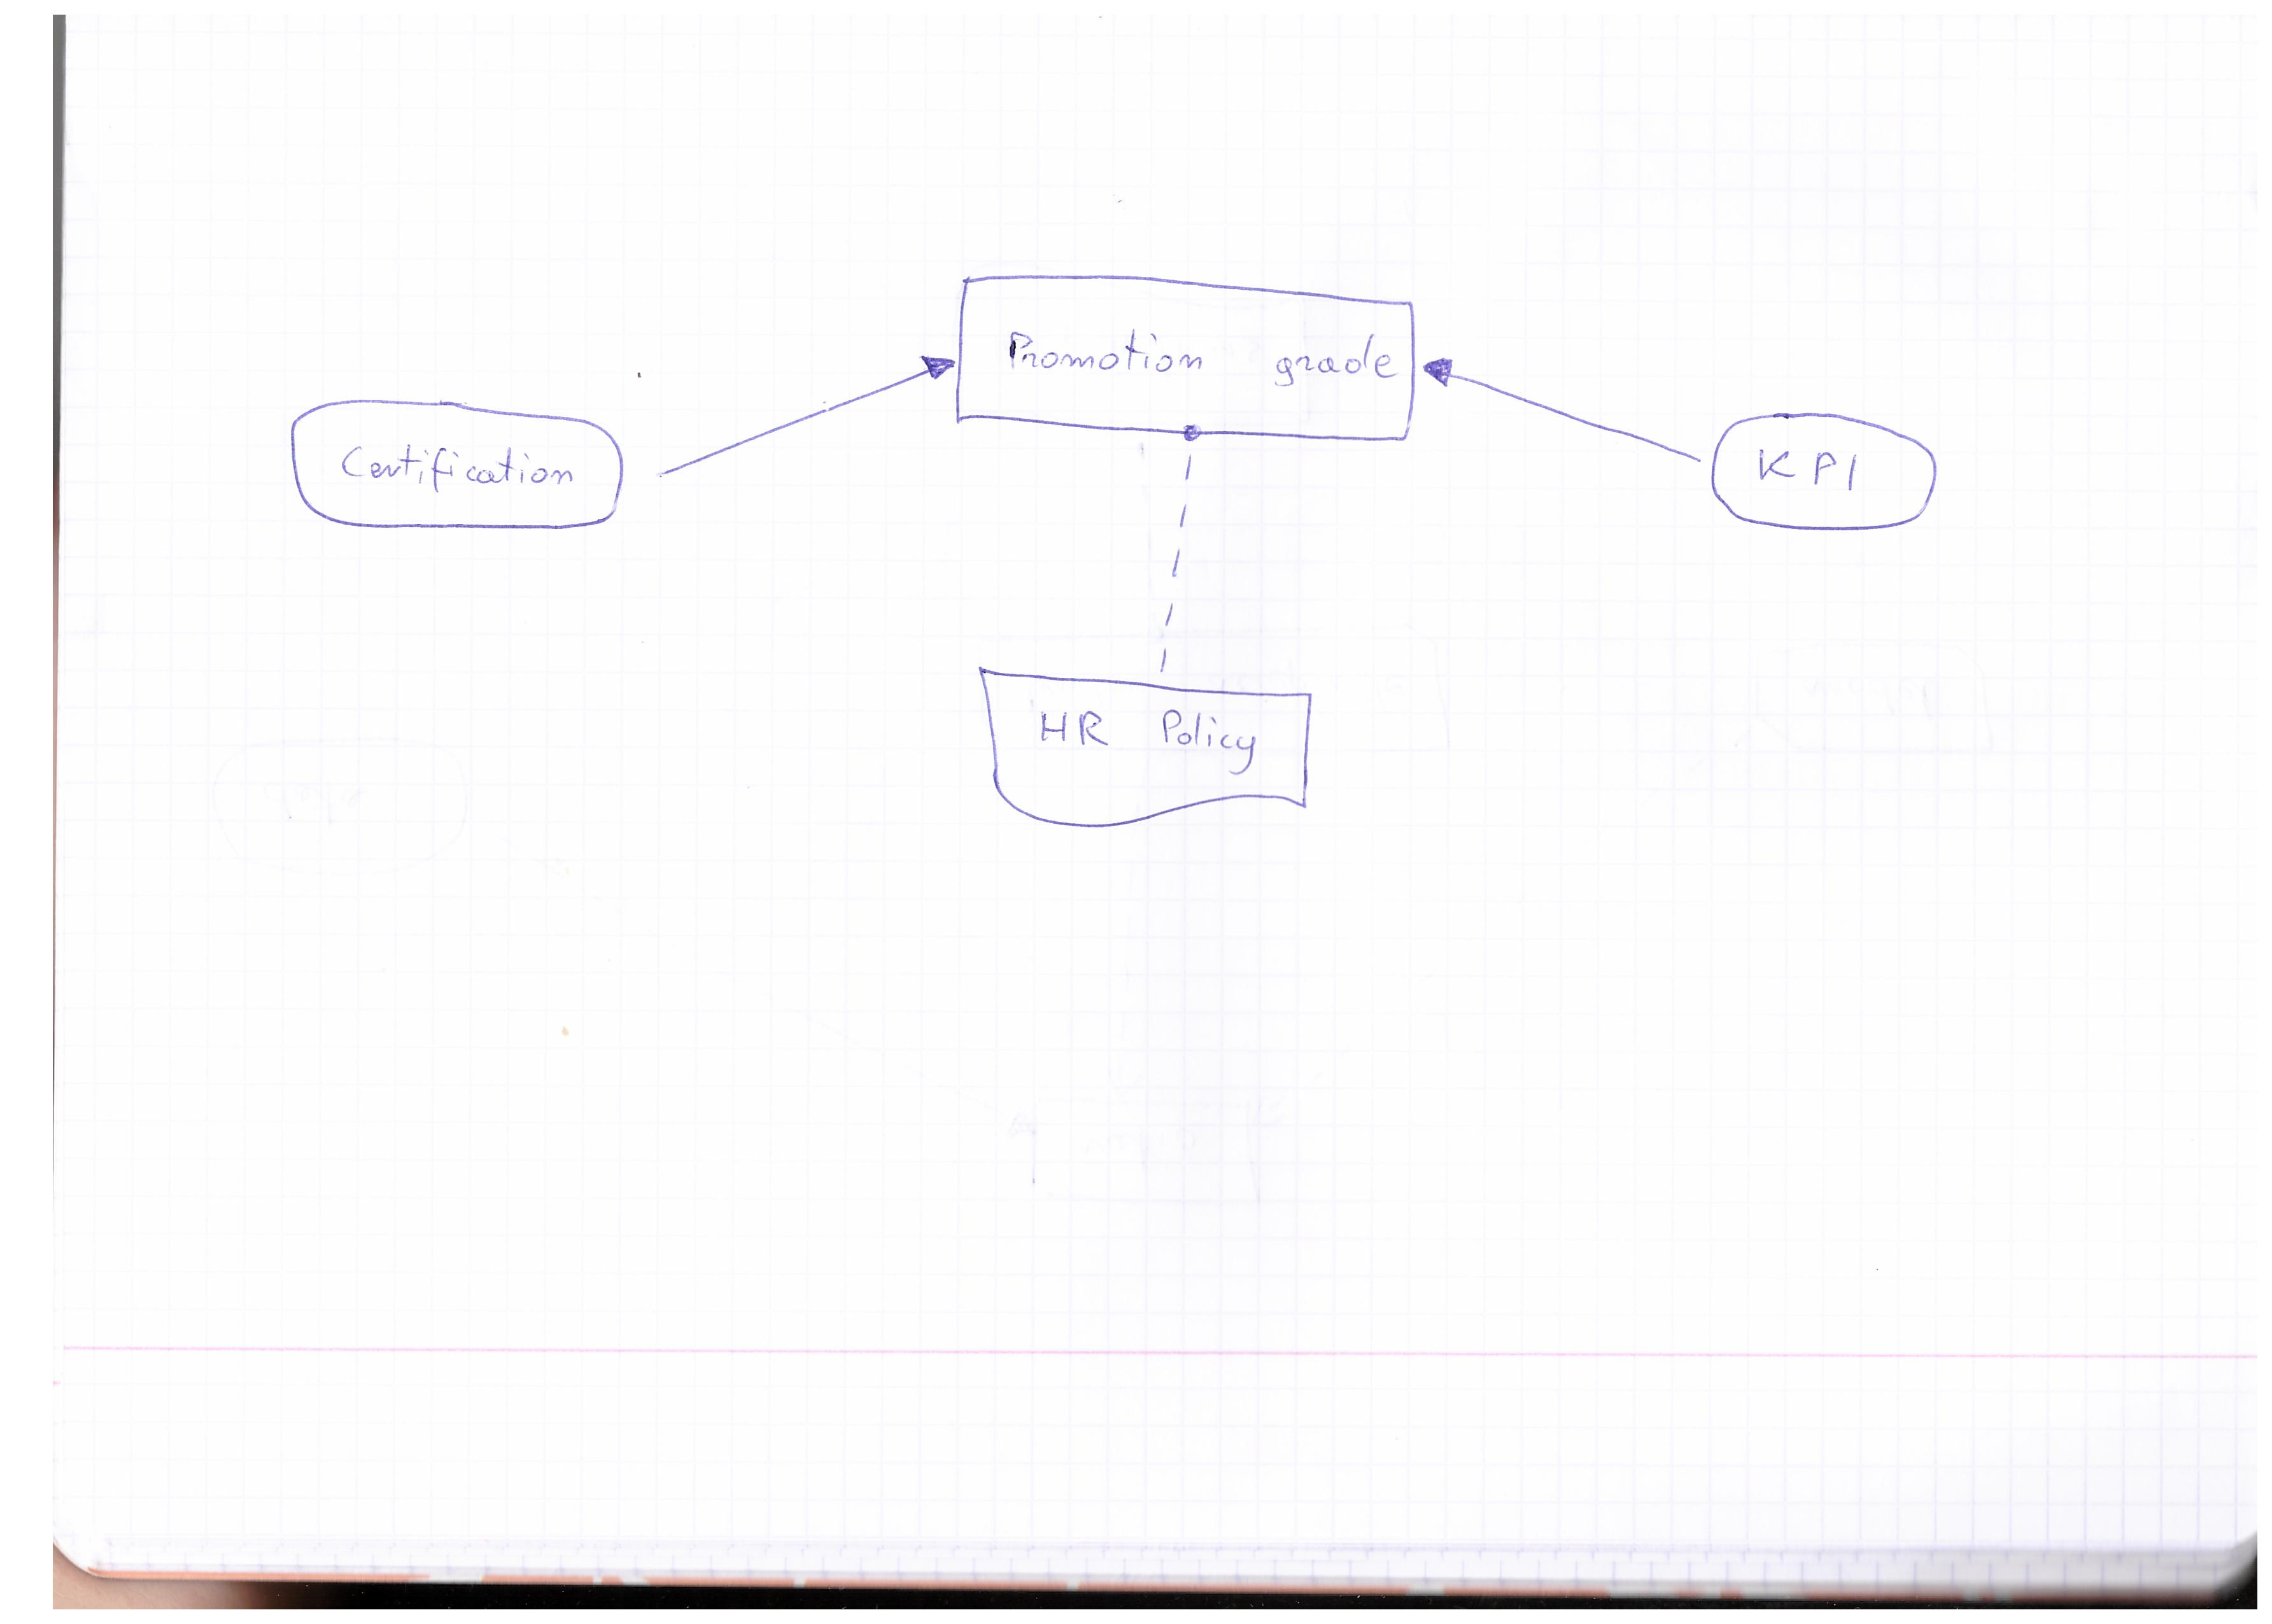arrow_authority_requirement: (1133, 420, 1219, 680)
arrow_information_requirement: (654, 339, 958, 490), (1415, 344, 1713, 480)
node_decision: (952, 269, 1422, 450)
node_input_data: (274, 385, 641, 540), (1706, 401, 1957, 559)
node_knowledge_source: (958, 666, 1334, 833)
text: (996, 318, 1402, 392), (1016, 698, 1265, 784), (330, 429, 582, 506), (1741, 431, 1873, 503)
